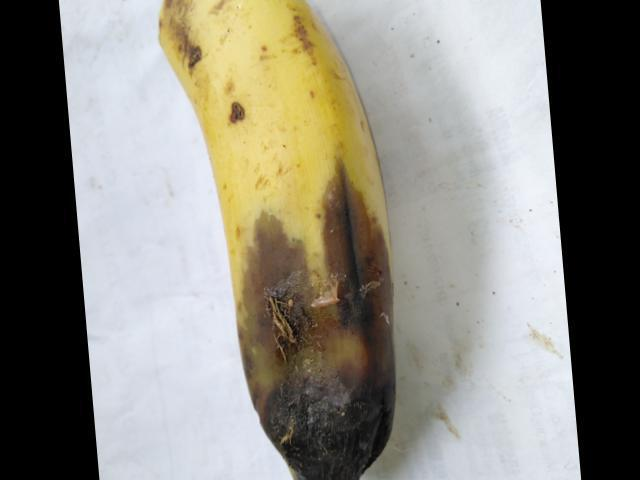rotten: (197, 181, 429, 479)
